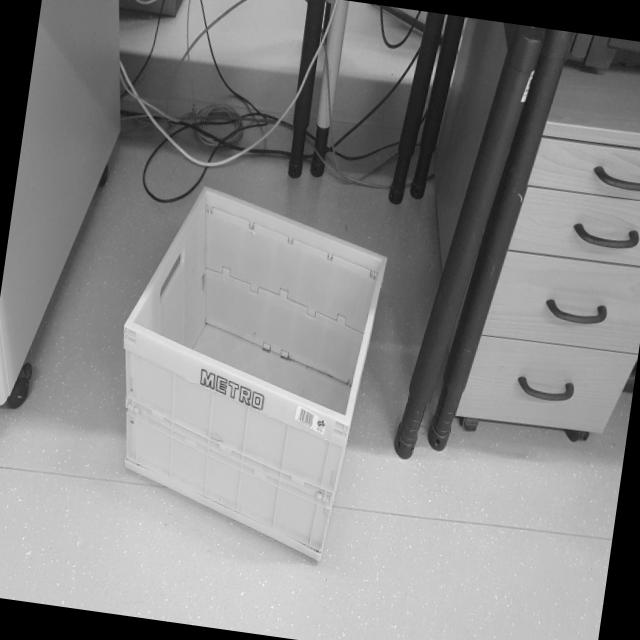box: (90, 158, 403, 577)
